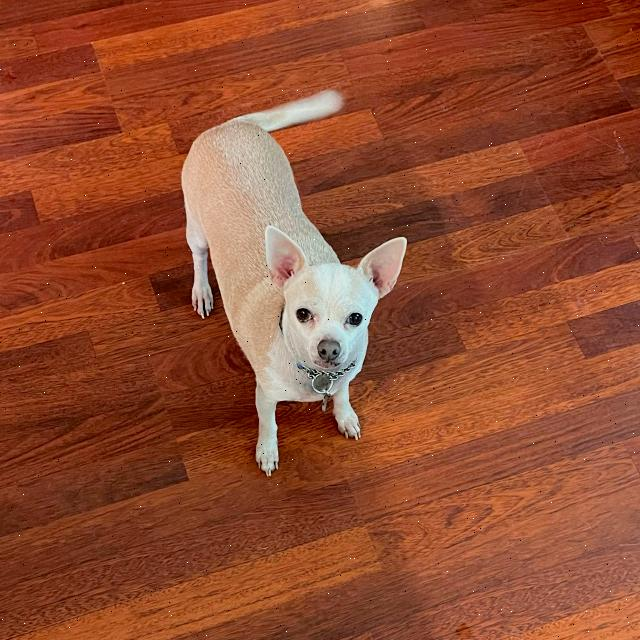chihuahua_dog: (256, 222, 408, 384)
